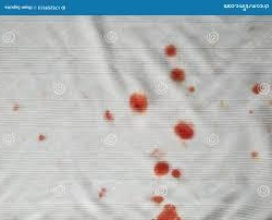blood: (149, 195, 182, 219), (154, 162, 181, 179), (129, 94, 148, 113), (174, 123, 194, 140), (171, 70, 186, 82), (165, 45, 177, 60), (251, 82, 263, 96), (106, 110, 113, 123), (187, 87, 195, 94)
